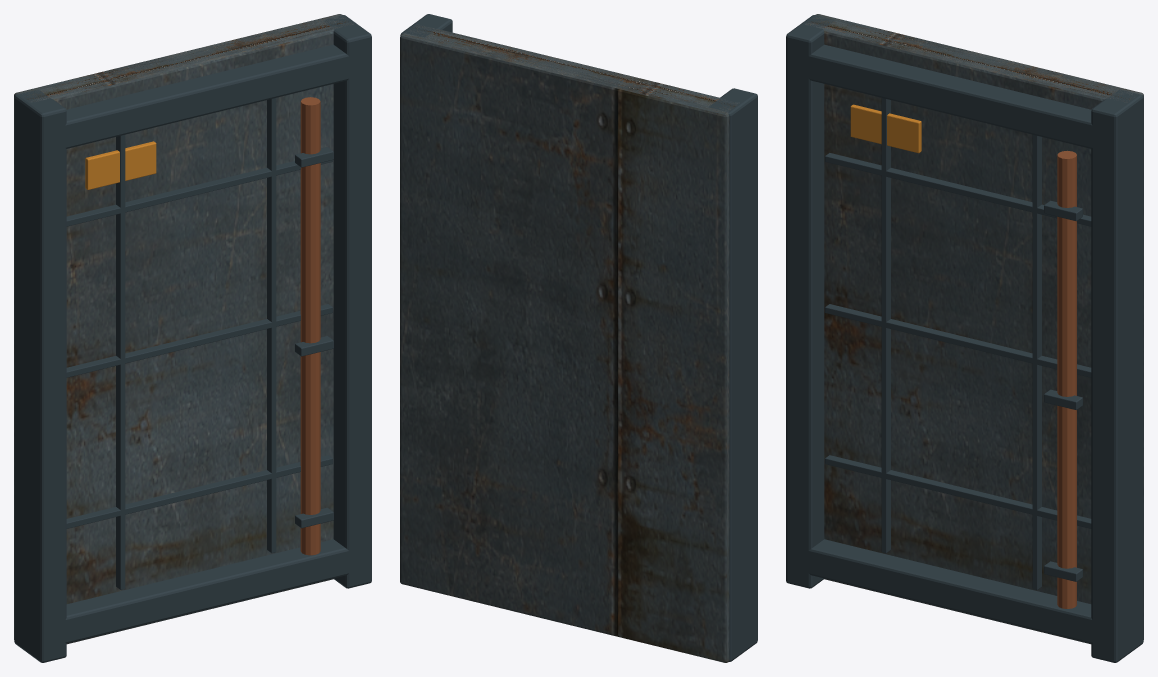
The model's file is station_wall_bay.glb.
3 views of the same model, side by side, from view 1: azimuth 30°, elevation 25°; view 2: azimuth 150°, elevation 25°; view 3: azimuth 330°, elevation 25° (orthographic).
Visible parts, largest first — view 1: Wall panel backing, Left structural upright, Right structural upright, Floor beam, Top beam, Conduit, Vertical panel seam.001, Vertical panel seam, Panel seam, Panel seam.001, Panel seam.002, Service label plate; view 2: Wall panel backing, Left structural upright, Right structural upright; view 3: Wall panel backing, Right structural upright, Left structural upright, Floor beam, Top beam, Conduit, Vertical panel seam.001, Vertical panel seam, Panel seam.001, Panel seam, Panel seam.002, Service label plate.
Boxes of the visible parts, left/top/right/bottom form: Wall panel backing: left=14, top=14, right=353, bottom=644; Left structural upright: left=14, top=89, right=66, bottom=662; Right structural upright: left=323, top=15, right=371, bottom=588; Floor beam: left=45, top=539, right=368, bottom=646; Top beam: left=45, top=44, right=368, bottom=152; Conduit: left=300, top=97, right=320, bottom=555; Vertical panel seam.001: left=267, top=98, right=276, bottom=553; Vertical panel seam: left=116, top=135, right=125, bottom=589; Panel seam: left=66, top=455, right=332, bottom=528; Panel seam.001: left=66, top=304, right=332, bottom=377; Panel seam.002: left=66, top=160, right=332, bottom=226; Service label plate: left=85, top=141, right=156, bottom=189; Wall panel backing: left=400, top=24, right=739, bottom=662; Left structural upright: left=708, top=88, right=757, bottom=661; Right structural upright: left=400, top=14, right=452, bottom=37; Wall panel backing: left=805, top=14, right=1143, bottom=644; Right structural upright: left=1091, top=89, right=1143, bottom=662; Left structural upright: left=786, top=15, right=834, bottom=588; Floor beam: left=789, top=539, right=1112, bottom=646; Top beam: left=790, top=44, right=1112, bottom=152; Conduit: left=1057, top=150, right=1076, bottom=608; Vertical panel seam.001: left=1032, top=135, right=1041, bottom=589; Vertical panel seam: left=881, top=98, right=890, bottom=553; Panel seam.001: left=825, top=304, right=1091, bottom=377; Panel seam: left=825, top=455, right=1091, bottom=528; Panel seam.002: left=825, top=153, right=1091, bottom=226; Service label plate: left=850, top=104, right=921, bottom=153.
Bounding box in the file's own units: 2.02 × 3.2 × 0.325.
Materials: 4 (1 with a texture image).
